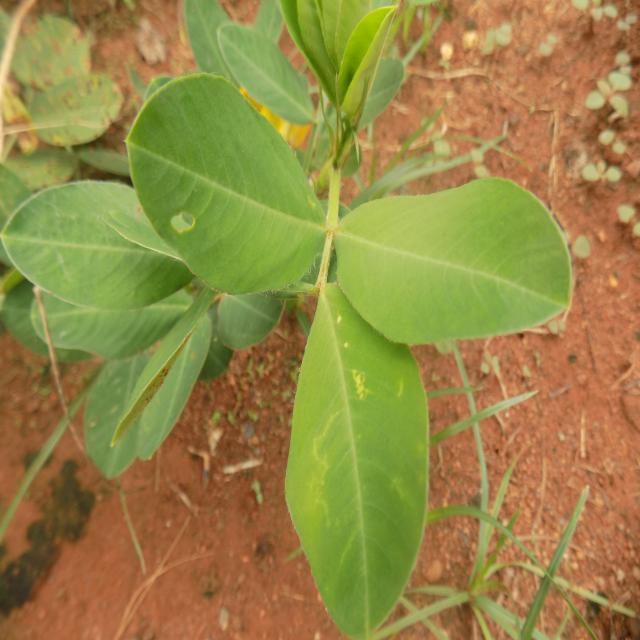Ground nut_healthy: (294, 290, 426, 633), (125, 75, 320, 288), (339, 181, 576, 340), (5, 176, 186, 304), (209, 15, 321, 114)
